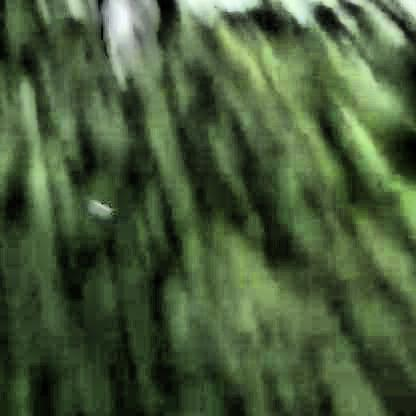golfball: (87, 201, 111, 219)
